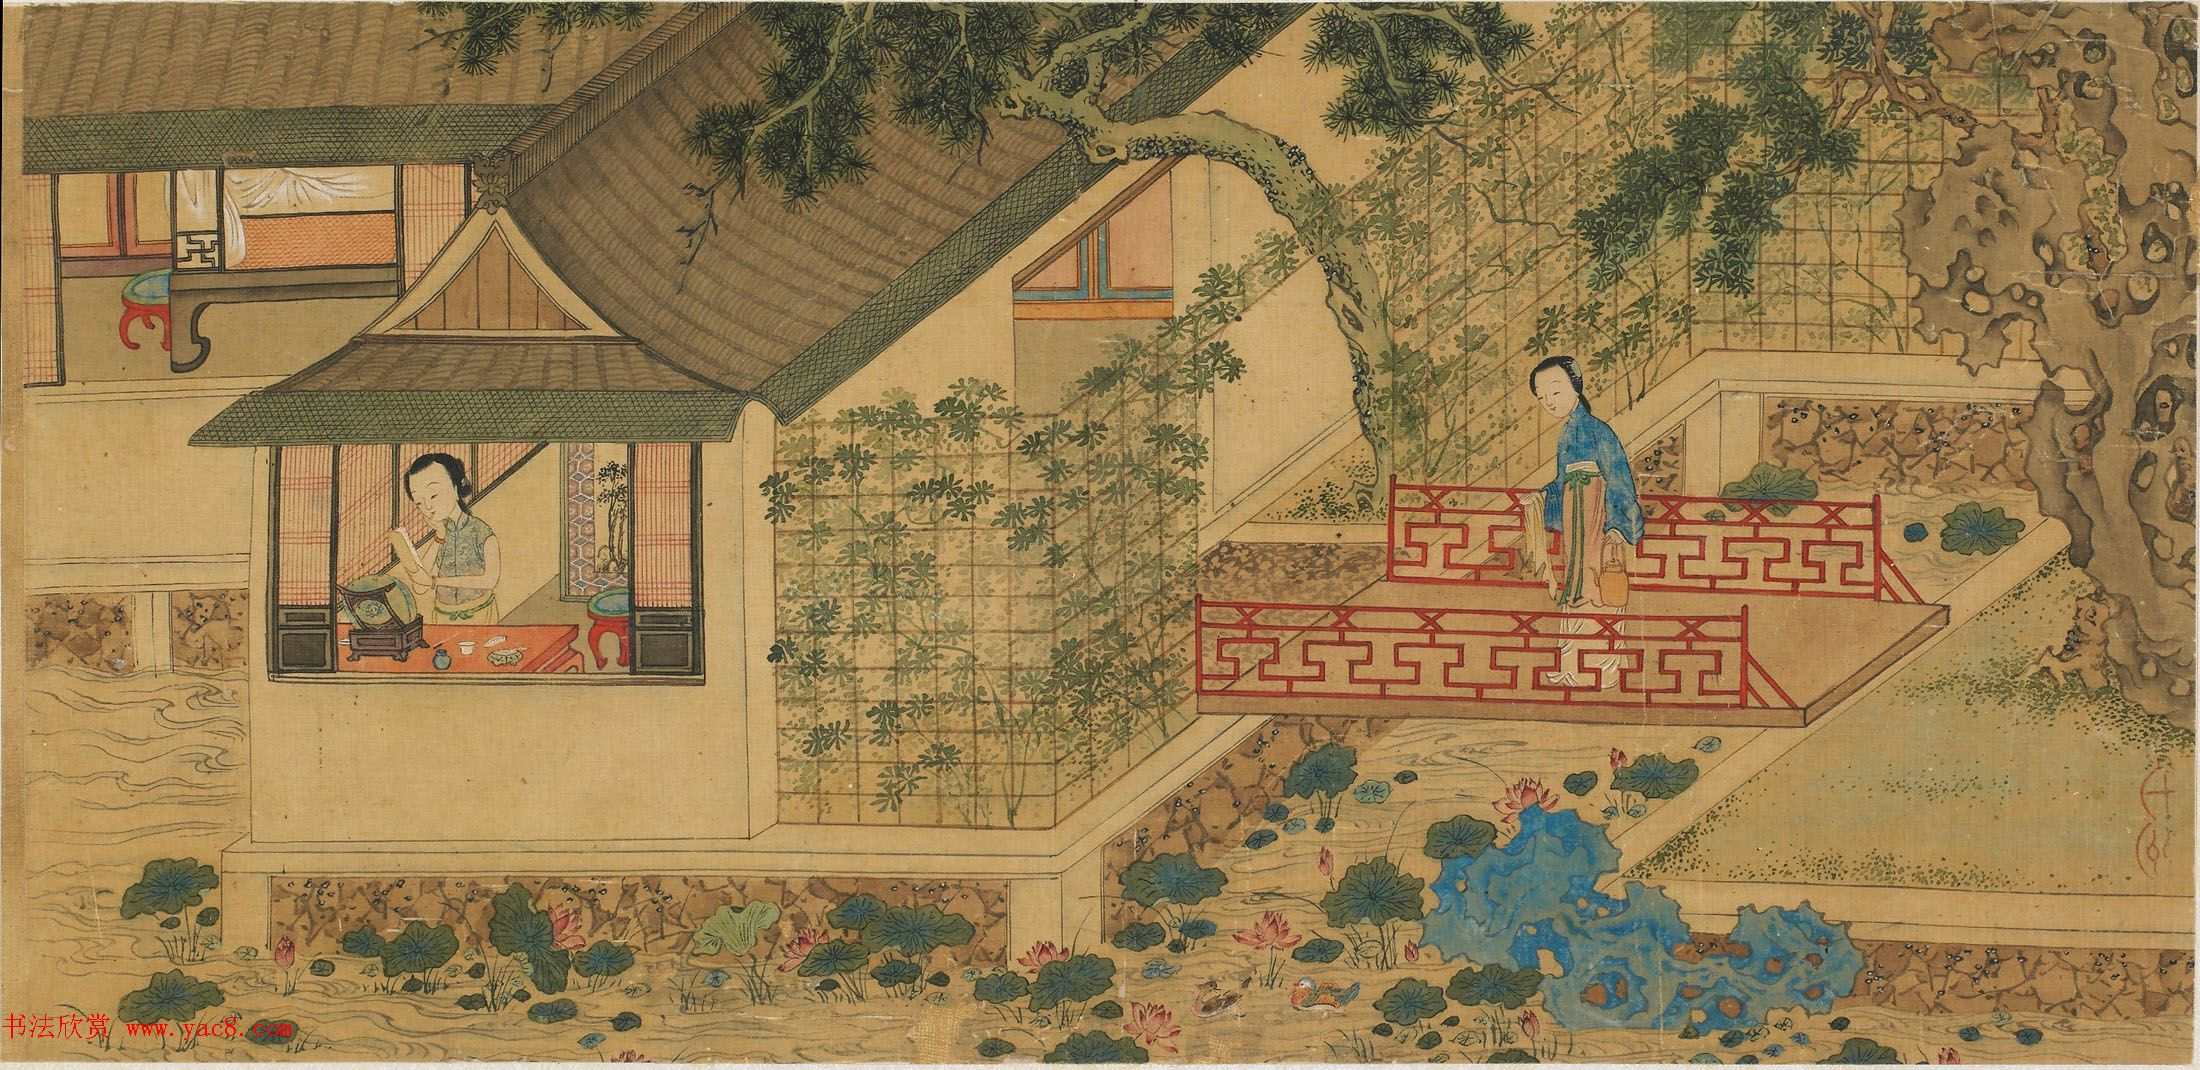decoration: (1949, 30, 2200, 700), (1601, 549, 1633, 616)
flower: (808, 429, 1132, 827), (1114, 364, 1208, 732), (1403, 186, 1505, 484), (1497, 91, 1590, 373)
house: (30, 19, 459, 386), (251, 689, 768, 868), (40, 403, 259, 670), (509, 144, 659, 424), (743, 197, 963, 379), (627, 438, 763, 694), (1241, 322, 1303, 514), (1028, 244, 1087, 402), (611, 24, 709, 110), (978, 259, 1027, 371), (1109, 205, 1147, 318)
lotus: (325, 905, 1149, 1068), (1173, 881, 1425, 1056), (1394, 998, 1978, 1060), (1313, 721, 1674, 821)
tree: (814, 5, 1481, 152), (1611, 11, 1955, 241), (1322, 235, 1395, 486), (1167, 132, 1322, 208)
wall: (1203, 608, 1800, 718), (1652, 498, 1882, 587), (1392, 489, 1536, 562)
woman: (1536, 371, 1638, 646), (409, 465, 494, 616)
